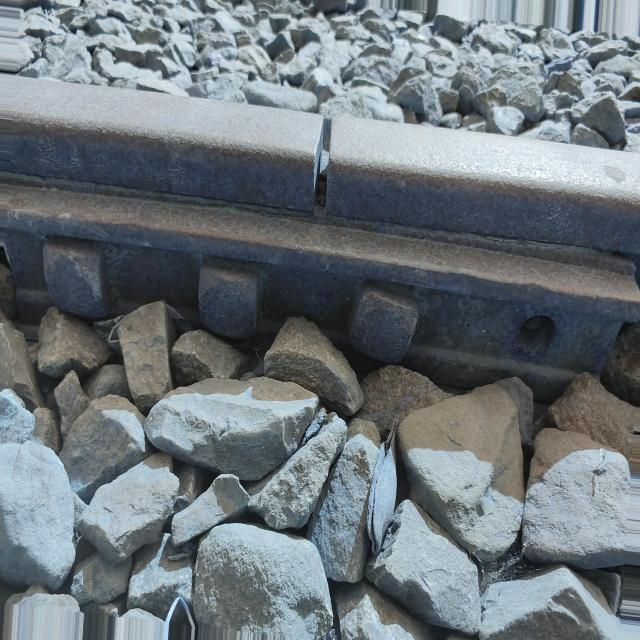Defective Joint: (0, 177, 640, 384)
